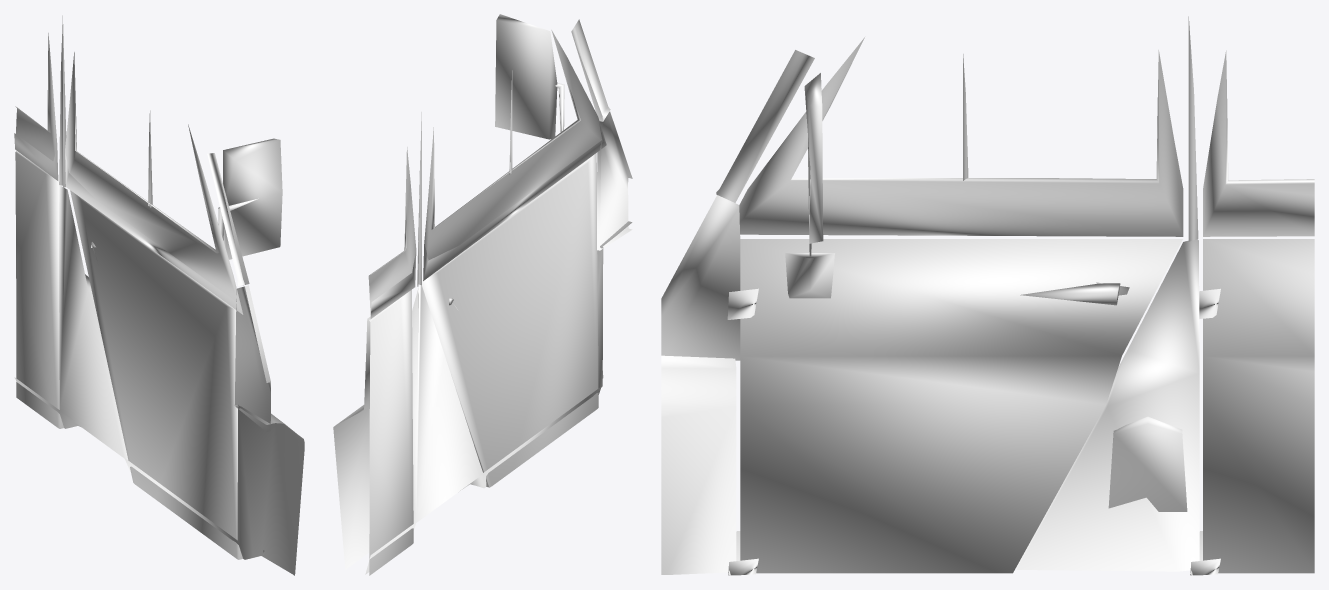
3 views of the same model, side by side, from view 1: azimuth 30°, elevation 25°; view 2: azimuth 150°, elevation 25°; view 3: azimuth 270°, elevation 25° (orthographic). The views are drawn at different scales.
Bounding box in the file's own units: 0.1896 × 1.03 × 1.12.
1 material, 1 textured.
